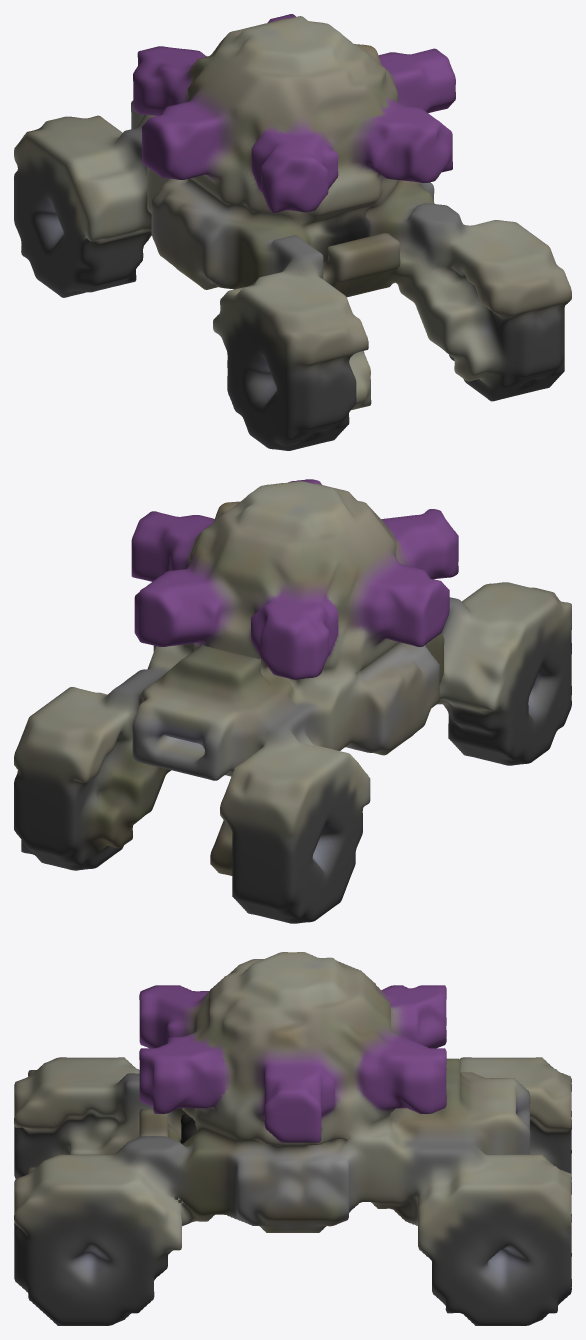
File: chaos_drone.glb
3 renders of one model, top to bottom at view 1: azimuth 30°, elevation 25°; view 2: azimuth 150°, elevation 25°; view 3: azimuth 270°, elevation 25°, orthographic. The views are drawn at different scales.
Visible parts, largest first — view 1: chaos_drone; view 2: chaos_drone; view 3: chaos_drone.
Boxes of the visible parts, x1,y1,x2,y2 form: chaos_drone: (14, 14, 571, 450); chaos_drone: (14, 479, 571, 923); chaos_drone: (14, 952, 571, 1325).
Bounding box in the file's own units: 1.92 × 1.89 × 3.3.
